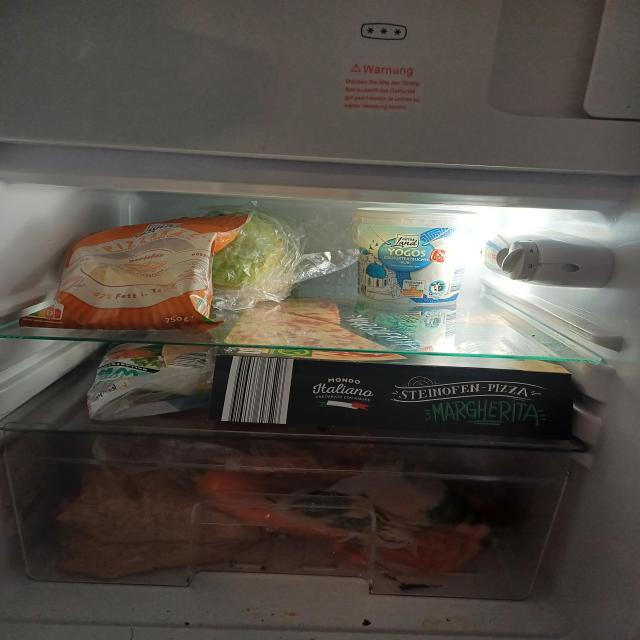Cheese: (45, 211, 243, 331)
Pizza: (222, 344, 584, 441)
Plastic bag: (70, 434, 240, 576)
Tortilla: (91, 334, 214, 421)
Yogurt: (354, 198, 476, 310)
cabbage: (203, 194, 302, 316)
carrots: (206, 444, 490, 587)
